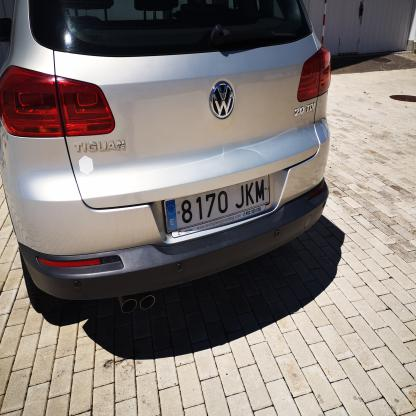patente: (164, 175, 271, 236)
